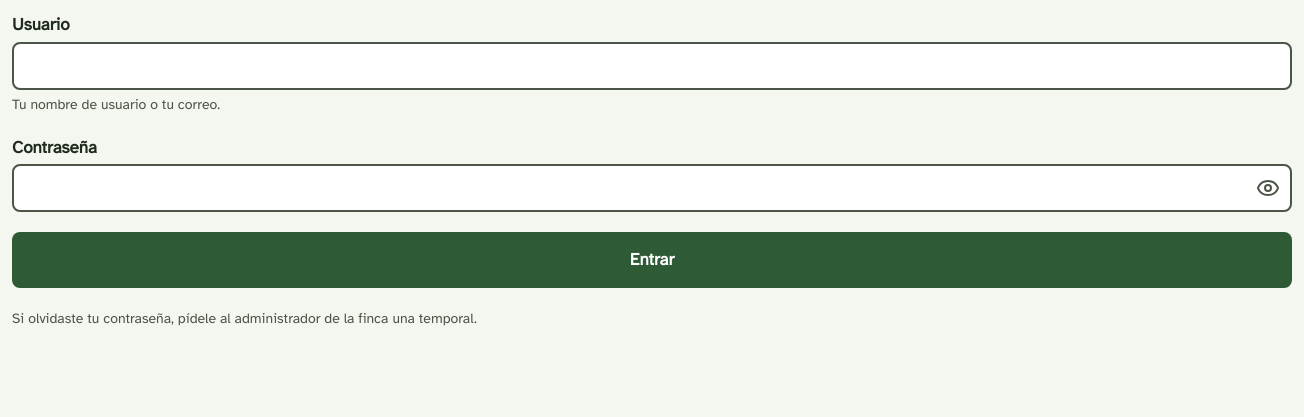
LoginForm › ante AUTH_INVALID_CREDENTIALS (401) muestra «Usuario o contraseña incorrectos.»
Step 1. Type "alvaro" into the field labelled "Usuario" → (652, 66), box 12,42 -> 1292,90
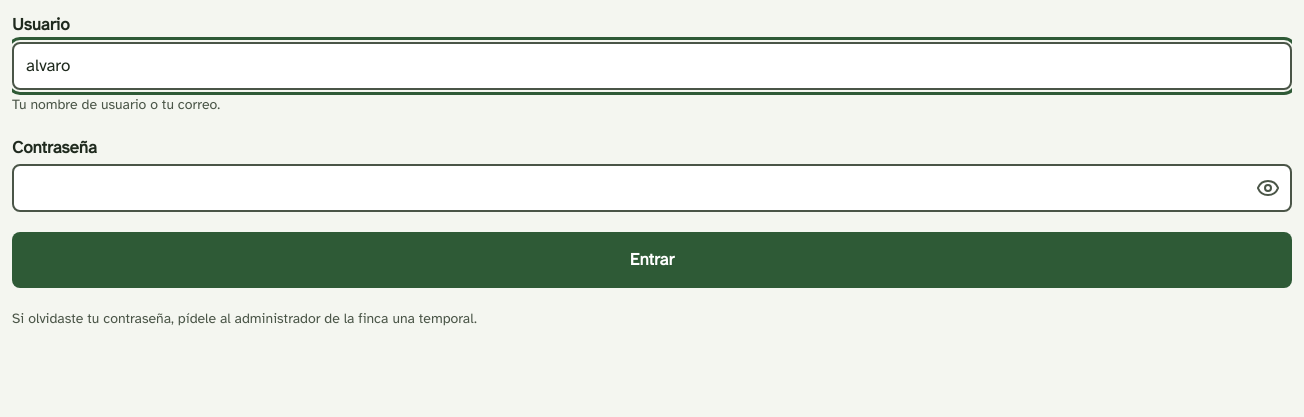
Step 2. Type "clave-secreta" into the password field labelled "Contraseña" → (652, 188), box 12,164 -> 1292,212
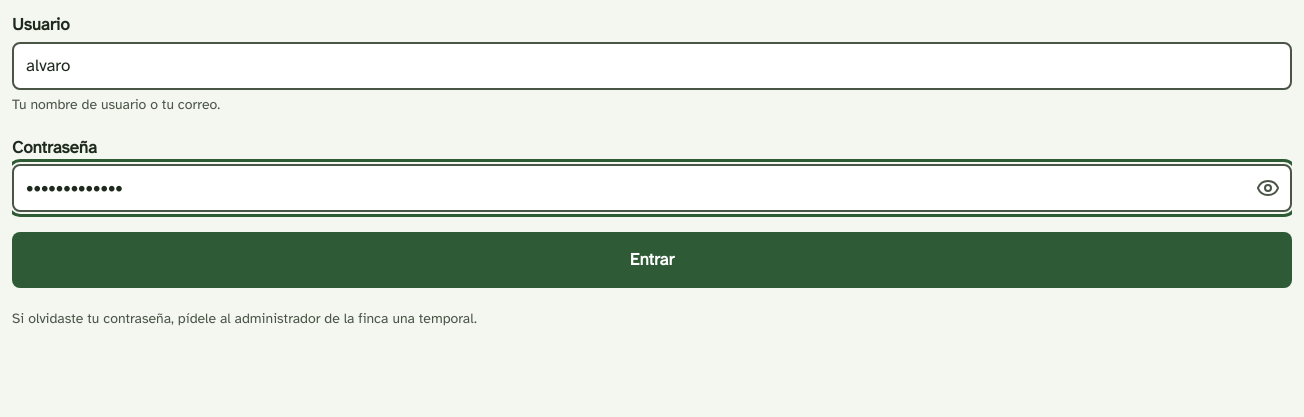
Step 3. Click the button "Entrar" → (652, 260), box 12,232 -> 1292,288
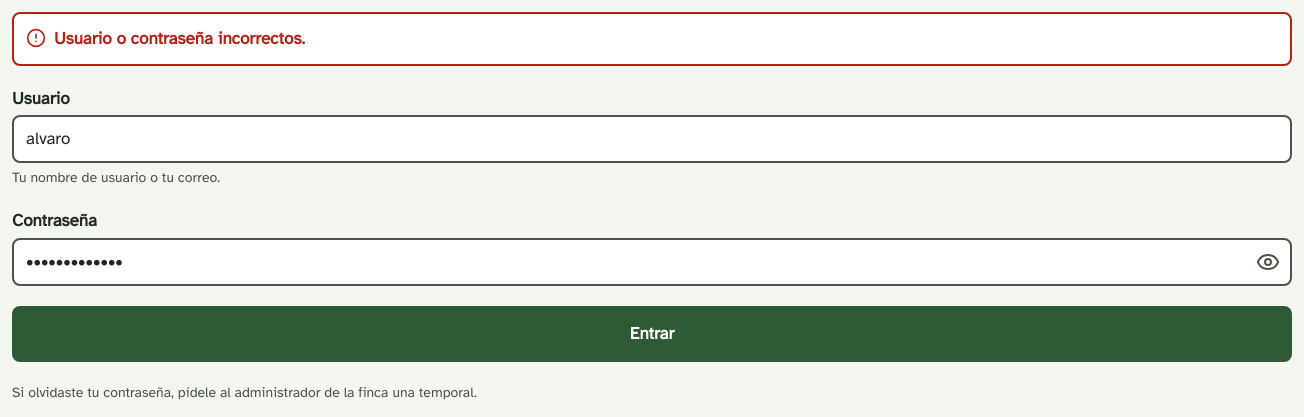
Expected: the message reads "Usuario o contraseña incorrectos.", 54,28 -> 305,49
